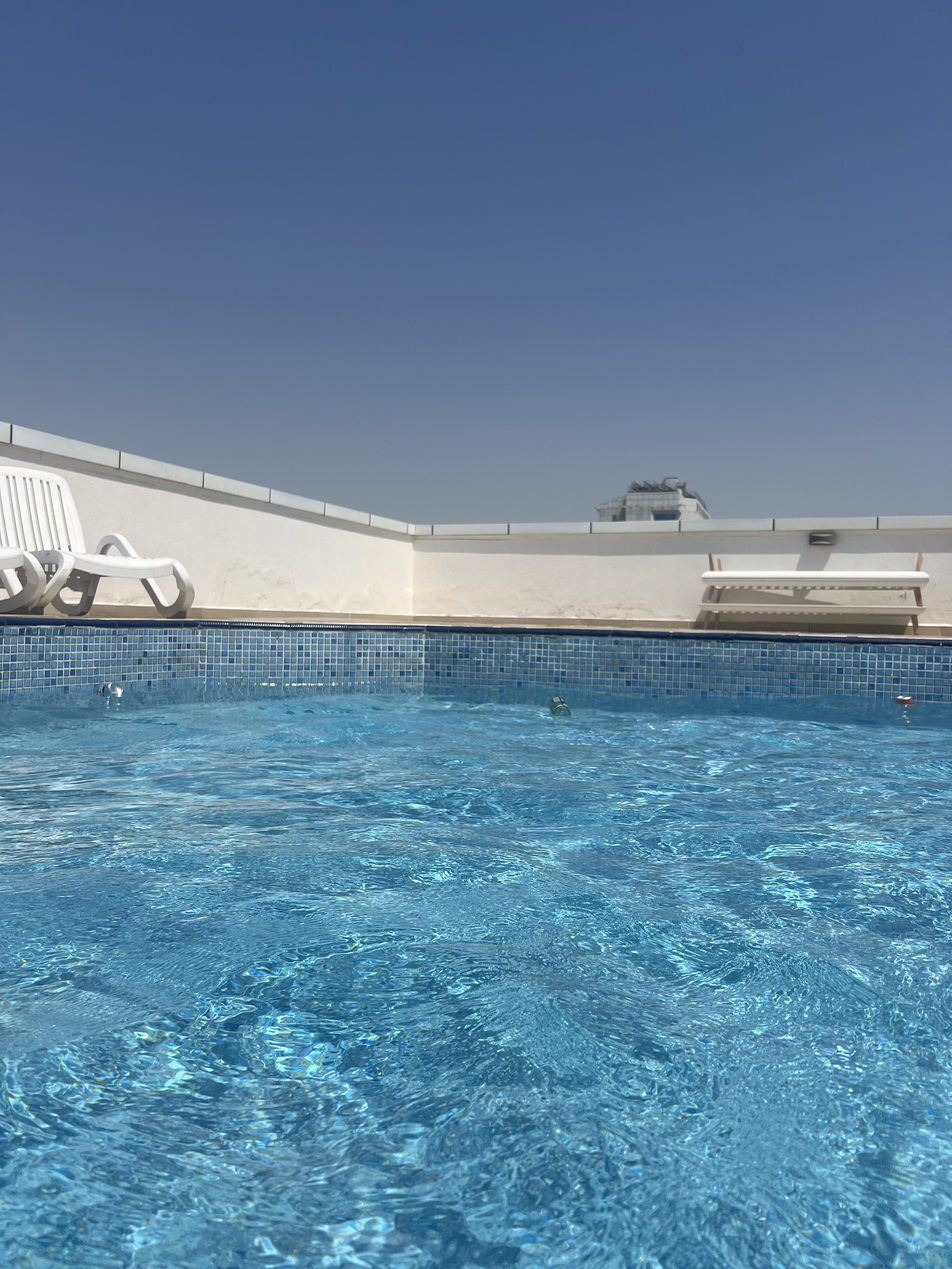debris: (543, 685, 573, 731), (99, 673, 126, 720), (892, 685, 917, 725)
